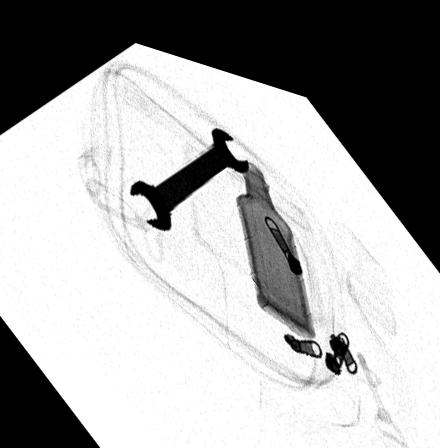Wrench: (127, 111, 250, 221)
